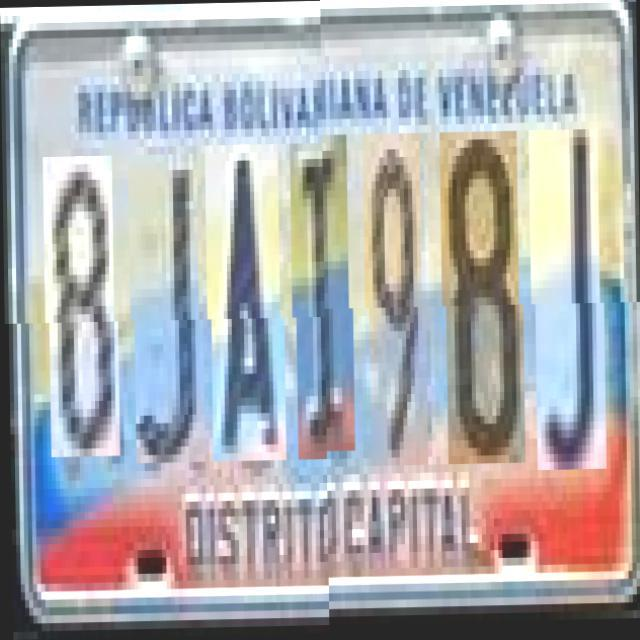8: (443, 141, 524, 474), (46, 156, 118, 457)
9: (366, 142, 426, 476)
A: (208, 146, 285, 462)
I: (294, 144, 354, 461)
J: (532, 140, 605, 480), (131, 154, 204, 463)
